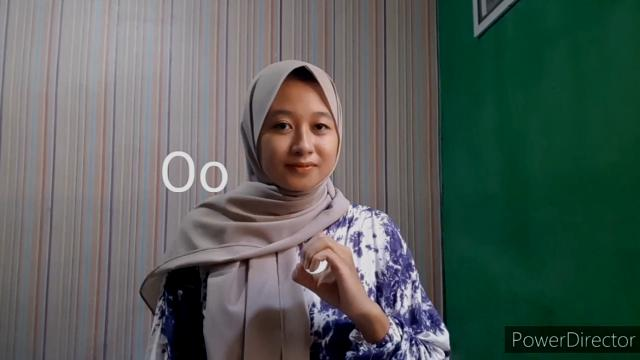O: (290, 230, 370, 316)
